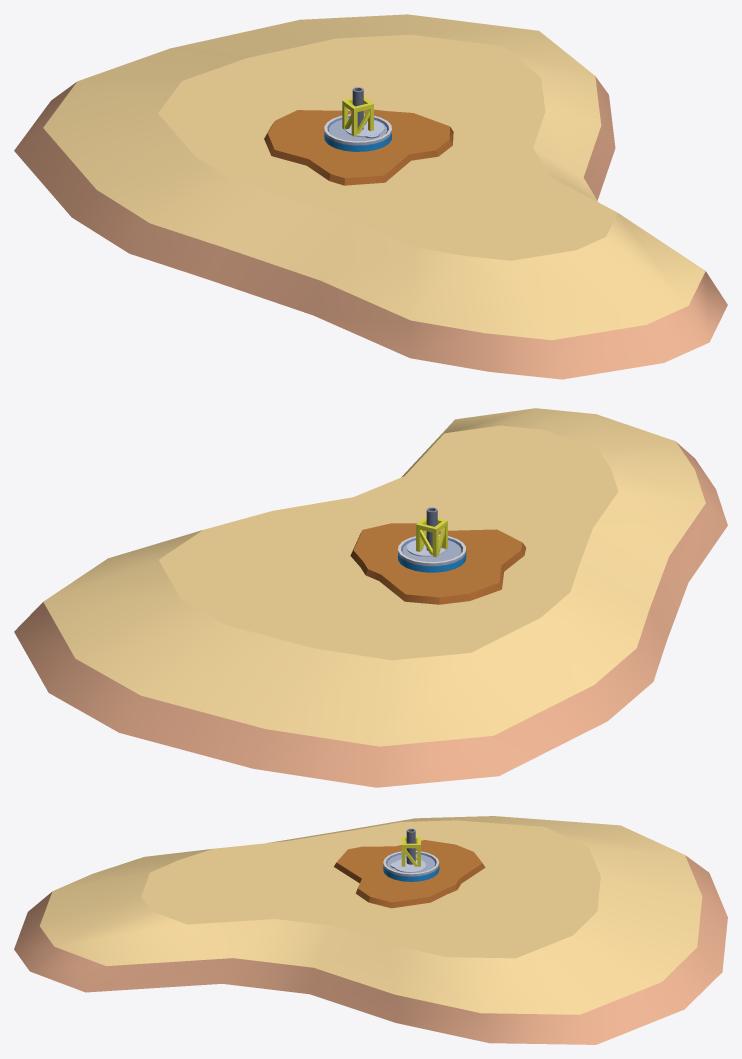
3 renders of one model, top to bottom at view 1: azimuth 30°, elevation 25°; view 2: azimuth 150°, elevation 25°; view 3: azimuth 270°, elevation 25°, orthographic. The views are drawn at different scales.
Parts seen in each view (by area): view 1: sand, rock, oil_barrel_big_01, antenna_tower; view 2: sand, rock, oil_barrel_big_01, antenna_tower; view 3: sand, rock, oil_barrel_big_01, antenna_tower.
Boxes of the visible parts, x1,y1,x2,y2 form: sand: (14,14,727,379); rock: (264,109,453,185); oil_barrel_big_01: (324,114,391,151); antenna_tower: (342,87,373,136); sand: (14,408,727,787); rock: (350,523,525,604); oil_barrel_big_01: (398,534,466,572); antenna_tower: (416,507,447,557); sand: (14,816,727,1044); rock: (334,840,485,908); oil_barrel_big_01: (383,851,439,881); antenna_tower: (401,828,420,866).
Size of the model in its own units: 606 by 131 by 854.
